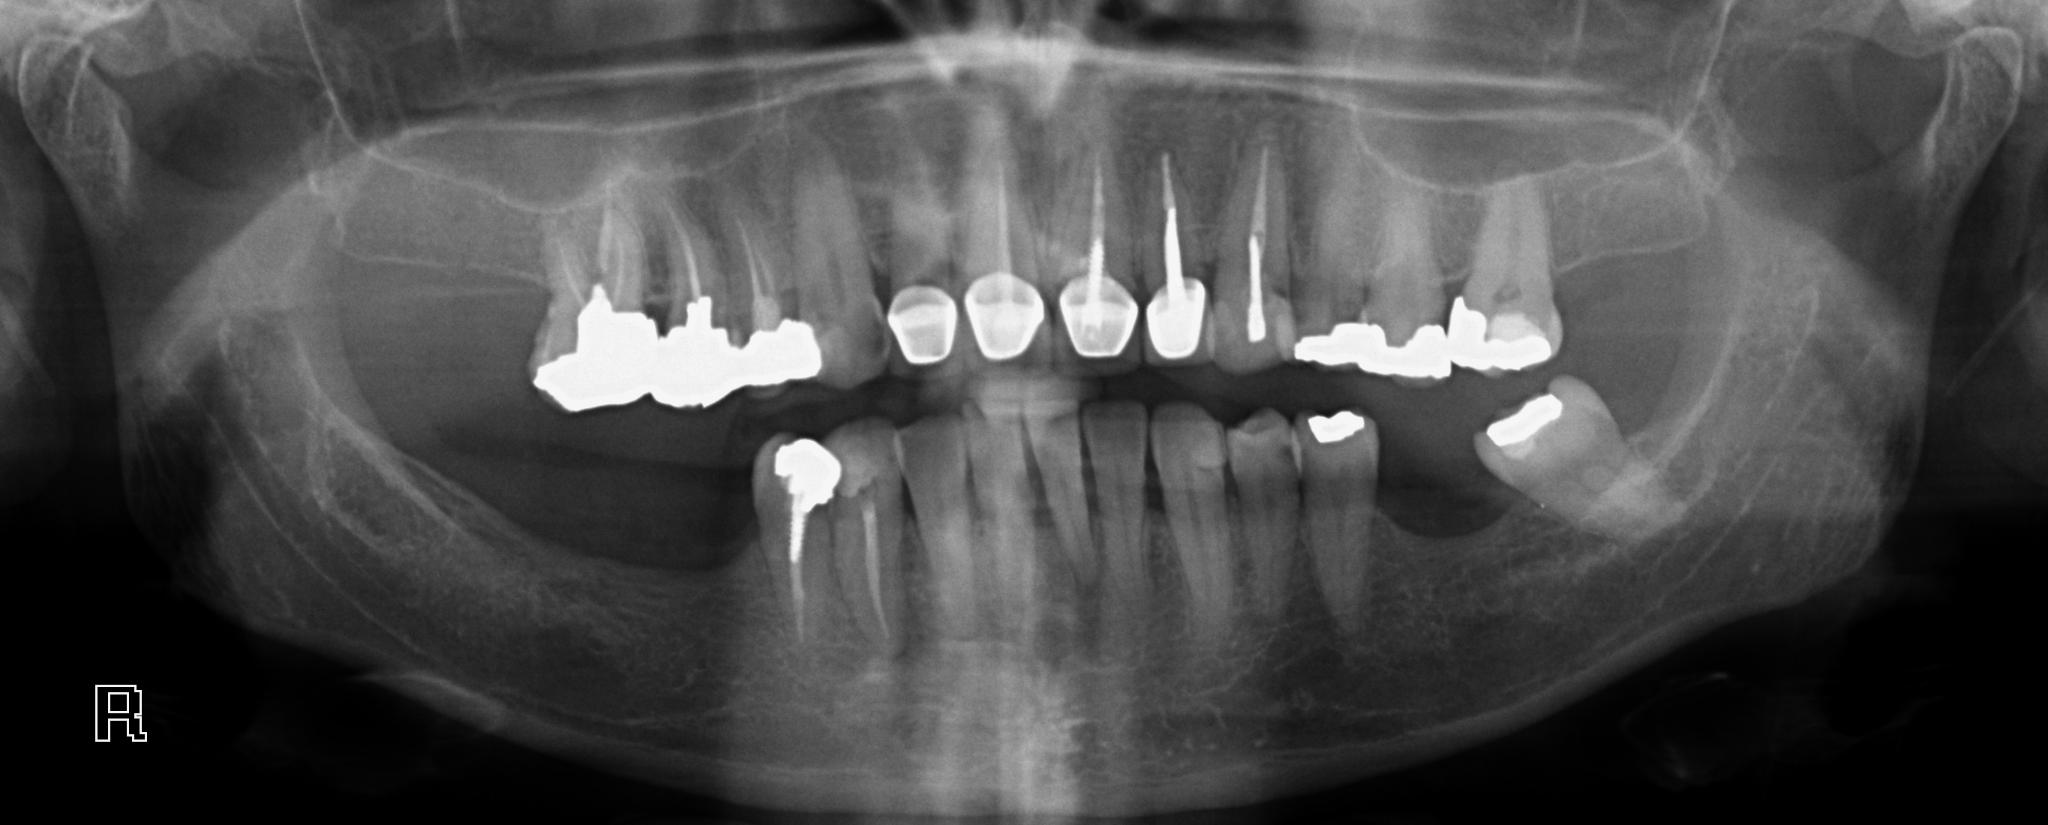Fillings: (1443, 178, 1560, 378), (1344, 168, 1451, 383), (1290, 404, 1381, 623), (874, 171, 964, 373)
Impacted Tooth: (1470, 376, 1674, 539)
Implant: (518, 188, 662, 422), (741, 431, 844, 660), (728, 170, 821, 396), (1213, 134, 1299, 369), (954, 155, 1047, 368), (1049, 152, 1139, 368), (1139, 146, 1215, 370)
